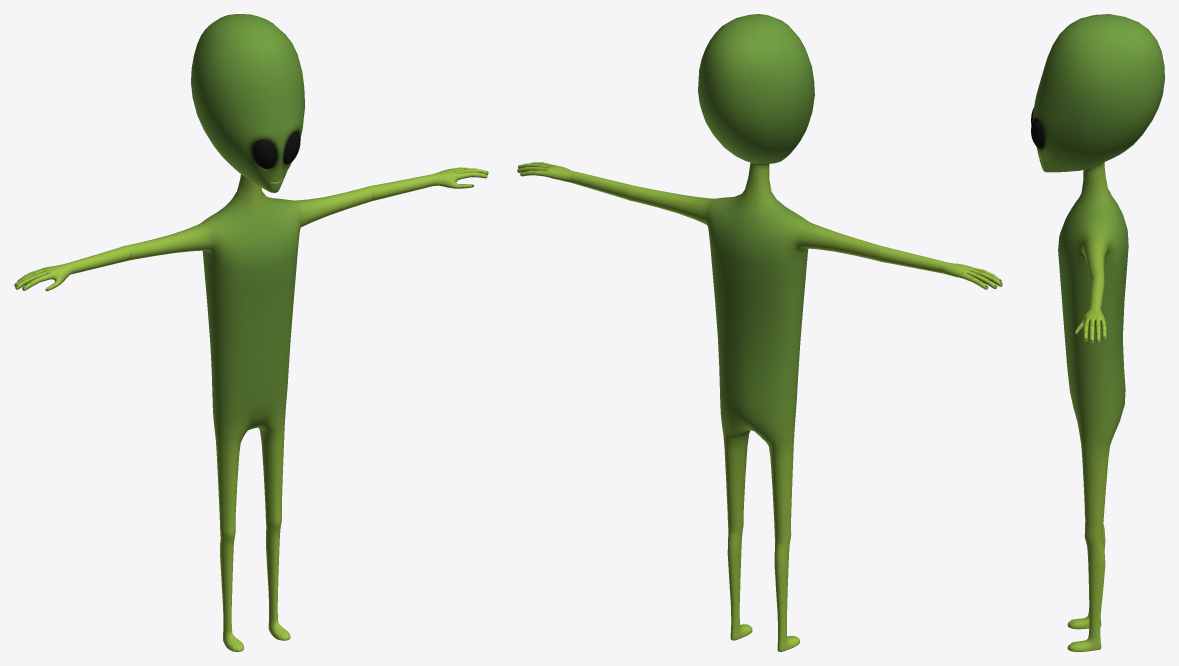
The model's file is green_alien.obj.
The picture shows the model from 3 angles, left to right: view 1: azimuth 30°, elevation 25°; view 2: azimuth 150°, elevation 25°; view 3: azimuth 270°, elevation 25°; orthographic projection. The views are drawn at different scales.
Parts seen in each view (by area): view 1: obj1; view 2: obj1; view 3: obj1.
Part boxes in pixels (box(x1,y1,x2,y2)): obj1: box(14, 14, 488, 651); obj1: box(517, 14, 1002, 651); obj1: box(1031, 14, 1164, 651).
Bounding box in the file's own units: 1.54 × 1.91 × 0.3748.
1 material, 1 textured.
